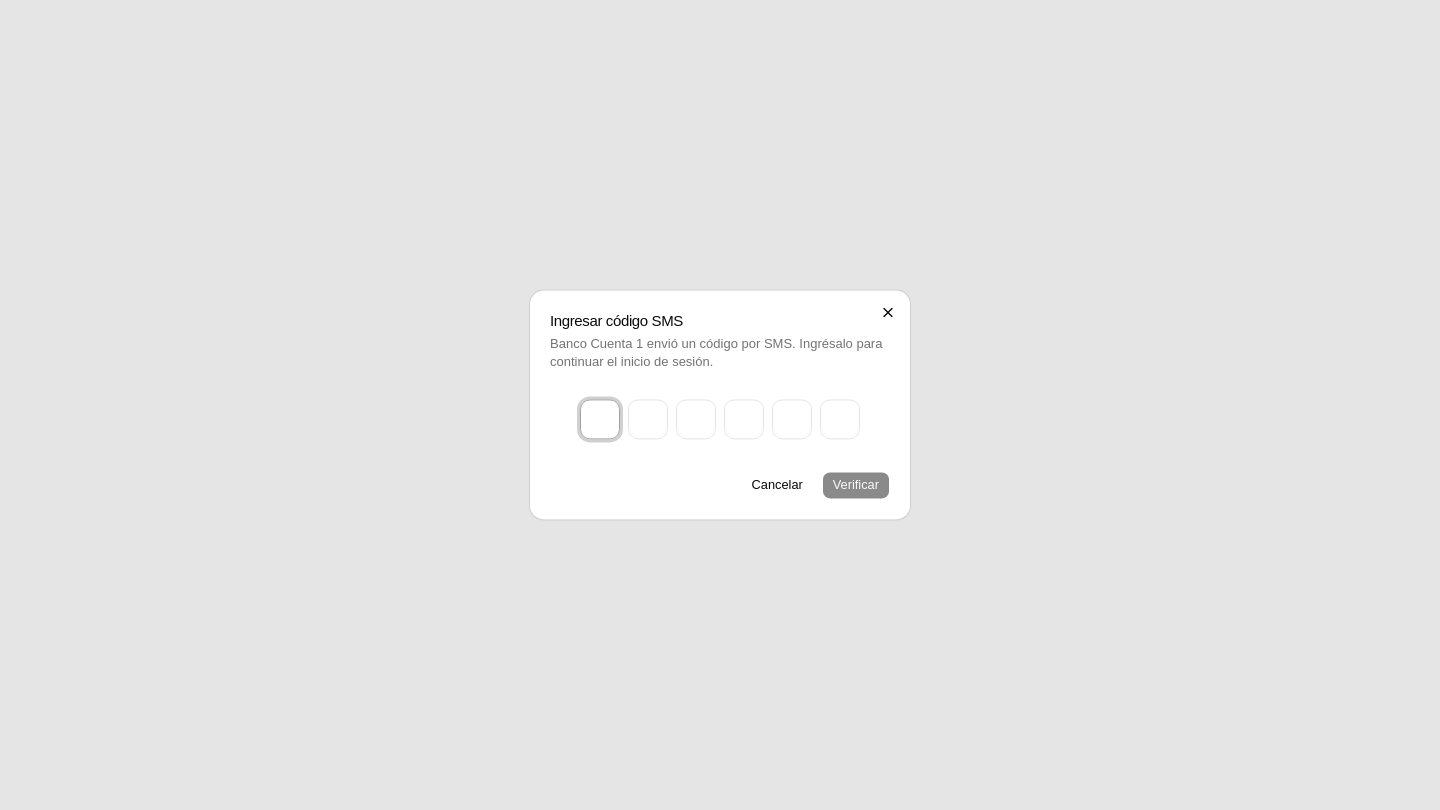
it: OtpAssistanceModal › falls back to the generic error message when the backend gives no code
Type "123456" into the field named "Digit 1".
click(600, 420); type("123456")  # box [580, 400, 620, 440]
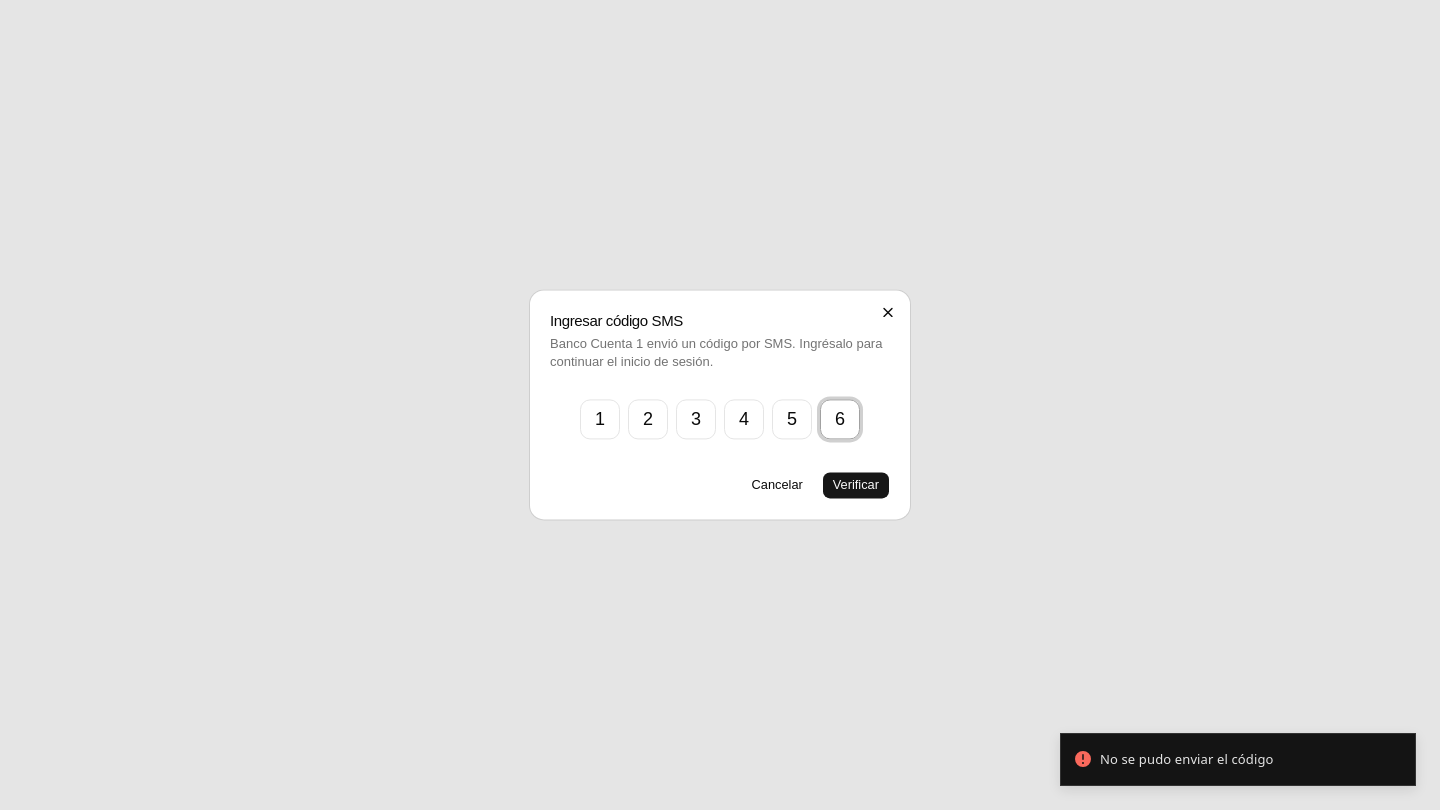
Now the text "No se pudo enviar el código" is shown, box [1100, 750, 1274, 769]
